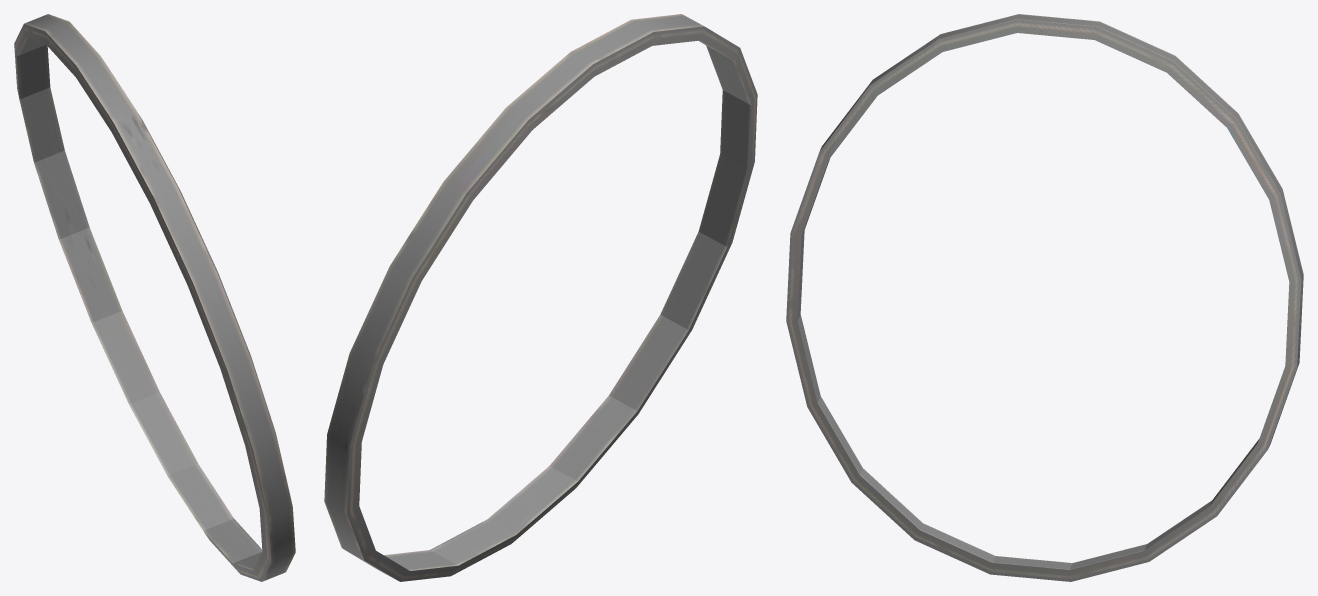
Rendered from celestialPrism_innerRing003.glb.
The picture shows the model from 3 angles, left to right: view 1: azimuth 30°, elevation 25°; view 2: azimuth 150°, elevation 25°; view 3: azimuth 270°, elevation 25°; orthographic projection. The views are drawn at different scales.
Visible parts, largest first — view 1: polySurface23.003; view 2: polySurface23.003; view 3: polySurface23.003.
Part boxes in pixels (<box>): polySurface23.003: <box>14,14,295,581</box>; polySurface23.003: <box>324,14,757,581</box>; polySurface23.003: <box>786,14,1303,581</box>.
Size of the model in its own units: 0.1157 by 0.3037 by 0.2881.
Materials: 1 (1 with a texture image).
